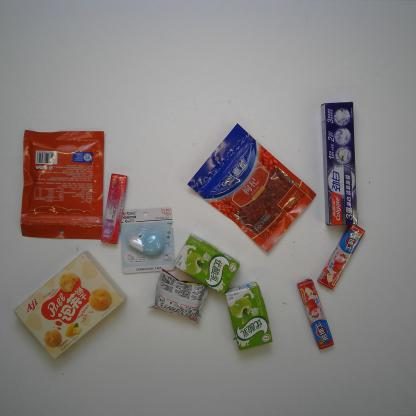Candy: (317, 226, 365, 289), (297, 278, 334, 350), (101, 173, 128, 245)
Dessert: (13, 250, 128, 361), (146, 268, 208, 325)
Dried Fruit: (187, 123, 317, 254), (20, 129, 104, 240)
Milk: (174, 233, 240, 295), (225, 282, 273, 352)
Personal Hygiene: (321, 101, 358, 226)
Stationery: (120, 207, 175, 274)
